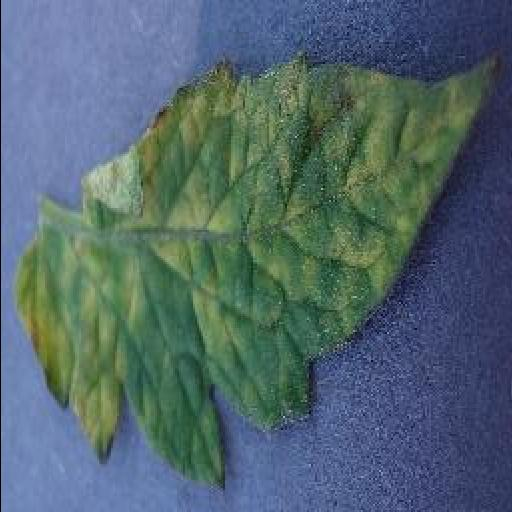disease_tomato: (15, 58, 501, 491)
